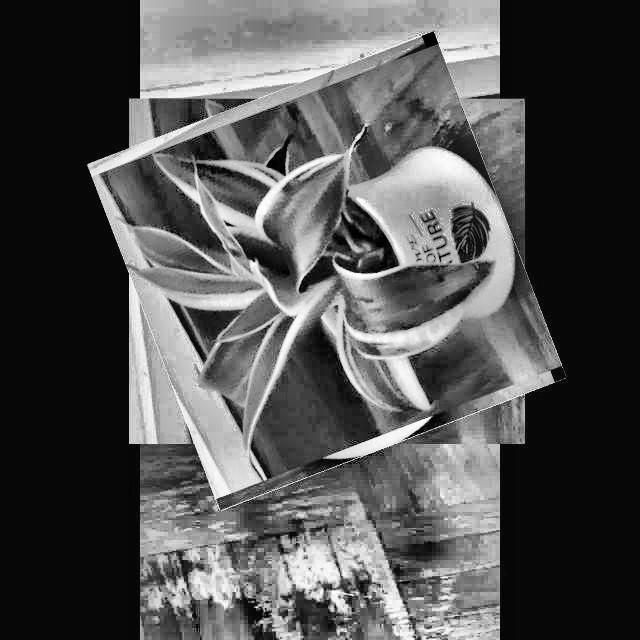plants: (115, 59, 540, 484)
